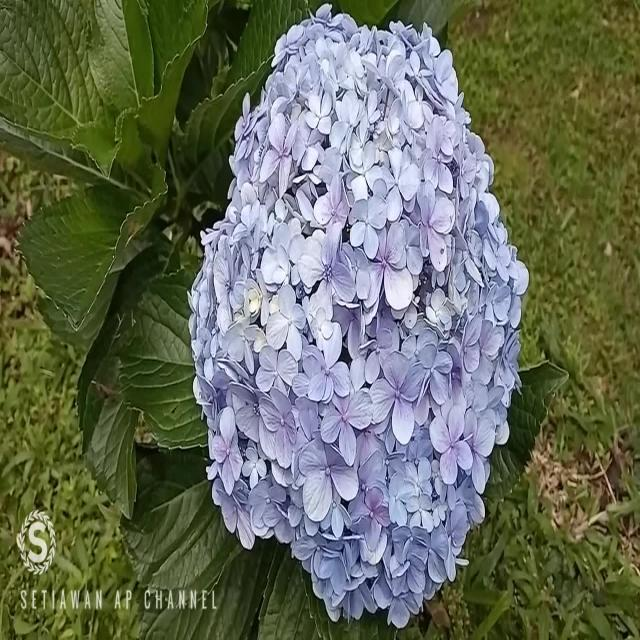Flower: (187, 6, 547, 626)
